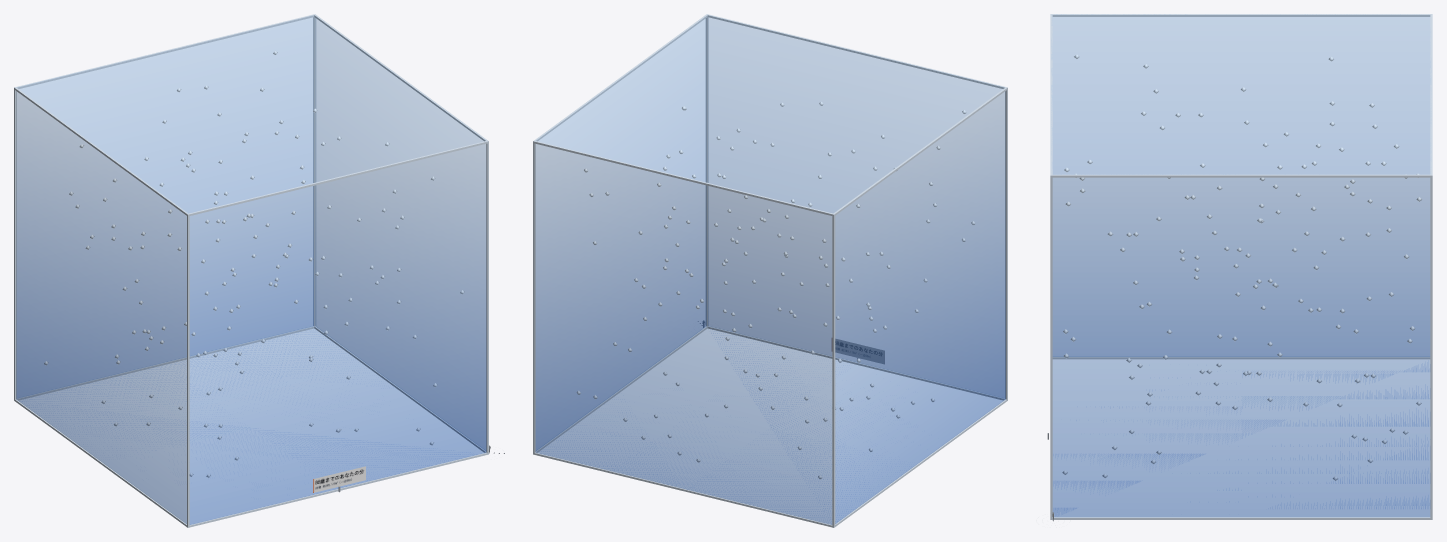
Rendered from cube_life_88.glb.
3 views of the same model, side by side, from view 1: azimuth 30°, elevation 25°; view 2: azimuth 150°, elevation 25°; view 3: azimuth 270°, elevation 25° (orthographic). The views are drawn at different scales.
Visible parts, largest first — view 1: co2, edge, dots, label; view 2: co2, edge, dots, label; view 3: co2, edge, dots.
Boxes of the visible parts, left/top/right/bottom form: co2: left=16, top=15, right=486, bottom=524; edge: left=14, top=14, right=488, bottom=527; dots: left=44, top=50, right=464, bottom=477; label: left=313, top=466, right=365, bottom=492; co2: left=535, top=15, right=1005, bottom=524; edge: left=533, top=14, right=1007, bottom=527; dots: left=576, top=101, right=975, bottom=479; label: left=835, top=339, right=884, bottom=364; co2: left=1051, top=14, right=1430, bottom=516; edge: left=1050, top=14, right=1432, bottom=519; dots: left=1062, top=54, right=1421, bottom=480.
Bounding box in the file's own units: 71.38 × 67.61 × 70.48.
8 materials, 3 textured.
